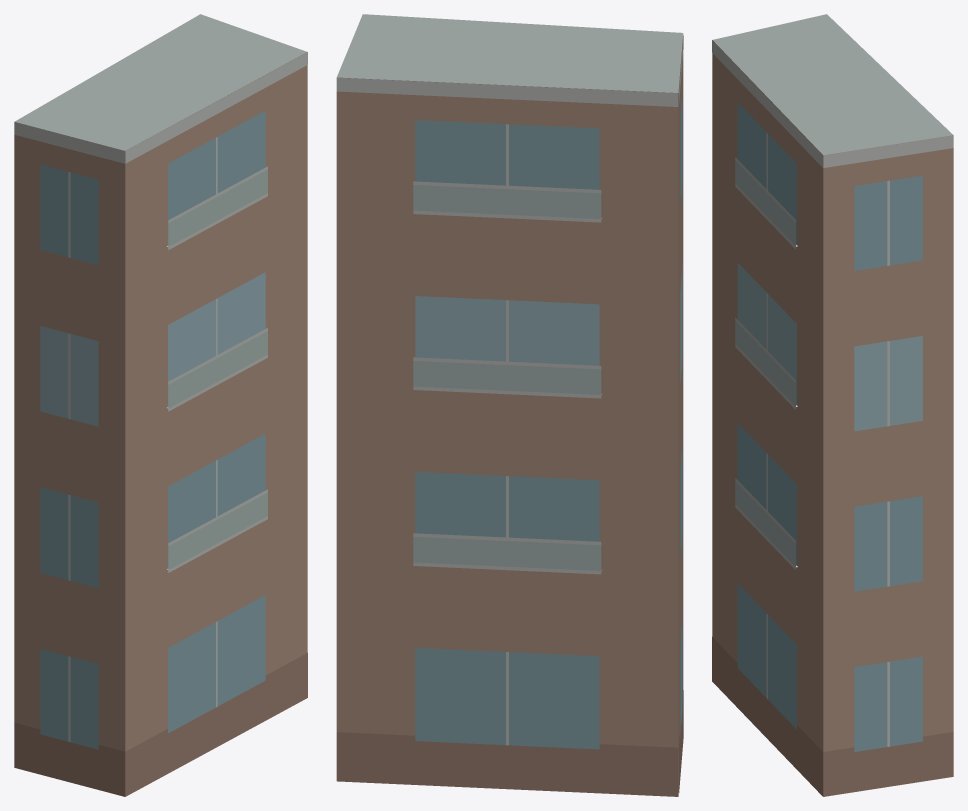
Rendered from survey-upis-32752156.glb.
3 views of the same model, side by side, from view 1: azimuth 30°, elevation 25°; view 2: azimuth 150°, elevation 25°; view 3: azimuth 270°, elevation 25° (orthographic). The views are drawn at different scales.
Parts seen in each view (by area): view 1: survey-upis-32752156.tmp; view 2: survey-upis-32752156.tmp; view 3: survey-upis-32752156.tmp.
Part boxes in pixels (x1,y1,x2,y2): survey-upis-32752156.tmp: (14,14,307,796); survey-upis-32752156.tmp: (336,14,683,796); survey-upis-32752156.tmp: (712,14,953,796).
Size of the model in its own units: 5.77 by 12.2 by 4.17.
